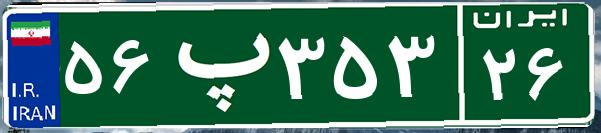2: (475, 38, 525, 113)
3: (385, 28, 445, 110), (273, 28, 330, 110)
5: (330, 28, 385, 110), (57, 26, 110, 107)
6: (110, 28, 158, 105), (525, 38, 570, 115)
پ: (158, 15, 273, 115)
